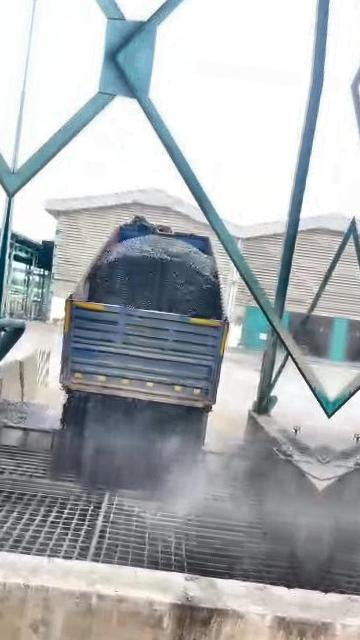gravel: (56, 392, 206, 487), (77, 224, 220, 318), (0, 399, 45, 427)
